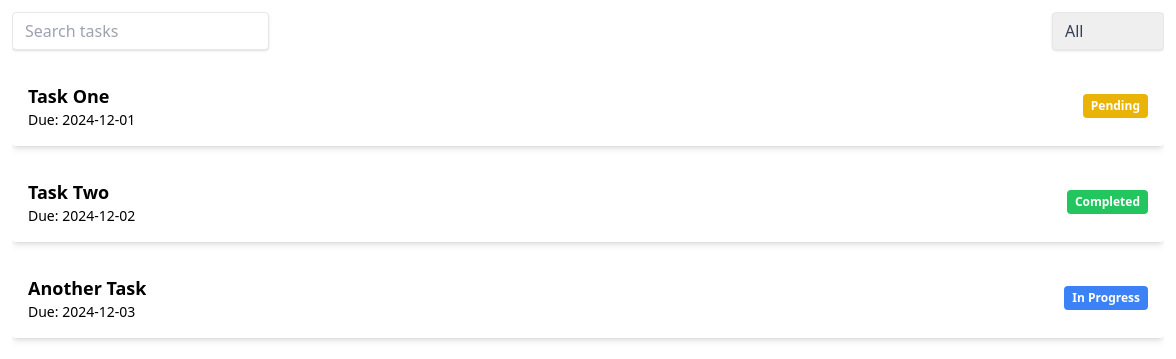
it: TaskList › searches tasks by title
The width and height of the screenshot is (1176, 359).
Type "Another" into the field with placeholder "Search tasks".
click(140, 31); type("Another")  # box x1=12 y1=12 x2=269 y2=50
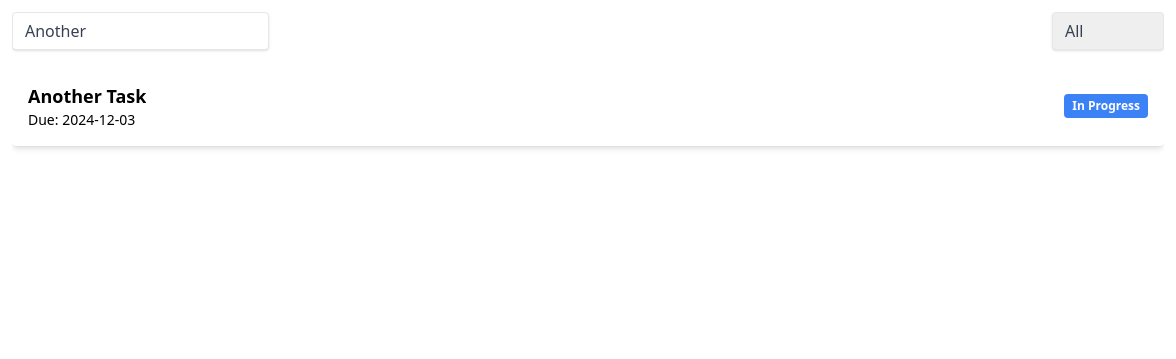
Expected: the heading "Another Task" is shown, x1=28 y1=82 x2=146 y2=110
Result: the button "Task One" is gone
Result: the button "Task Two" is gone
